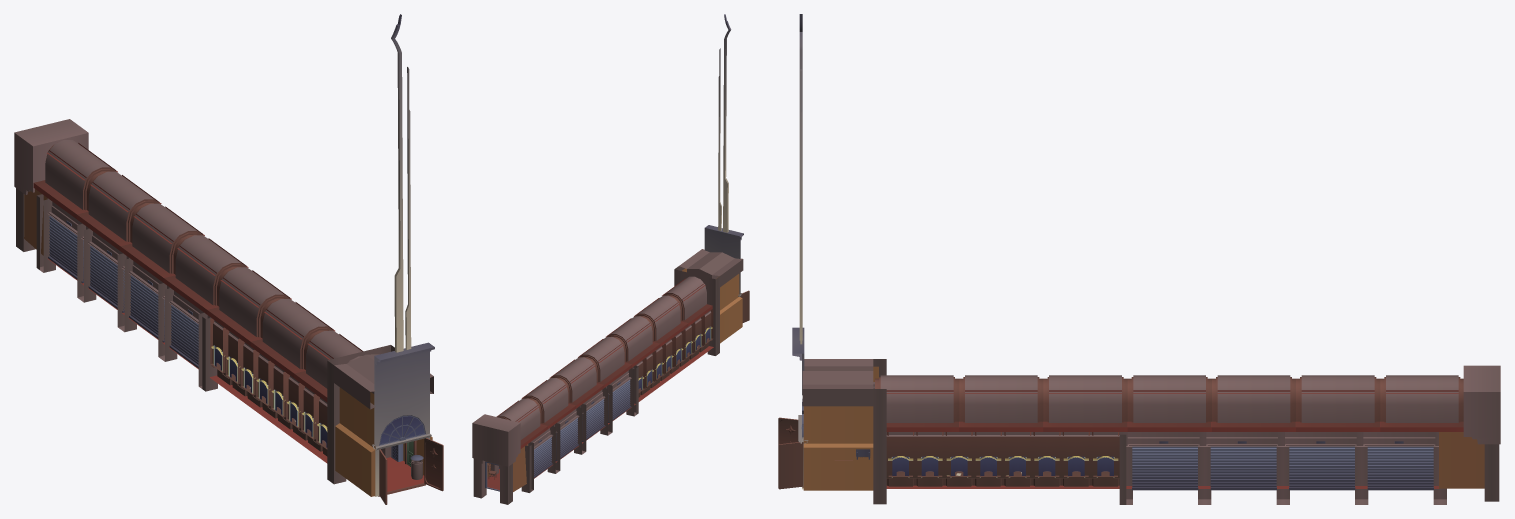
File: Commerce.fbx
3 views of the same model, side by side, from view 1: azimuth 30°, elevation 25°; view 2: azimuth 150°, elevation 25°; view 3: azimuth 270°, elevation 25° (orthographic). The views are drawn at different scales.
Visible parts, largest first — view 1: Commerce; view 2: Commerce; view 3: Commerce.
Part boxes in pixels (left/top/right/bottom): Commerce: left=14, top=14, right=443, bottom=504; Commerce: left=472, top=14, right=749, bottom=504; Commerce: left=778, top=14, right=1500, bottom=504.
Bounding box in the file's own units: 5.07 × 35.76 × 49.34.
